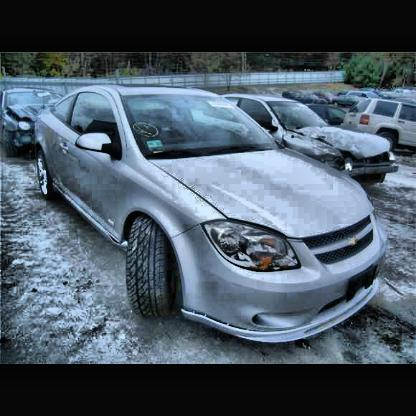Chevrolet Cobalt SS 2010: (35, 87, 391, 345)
